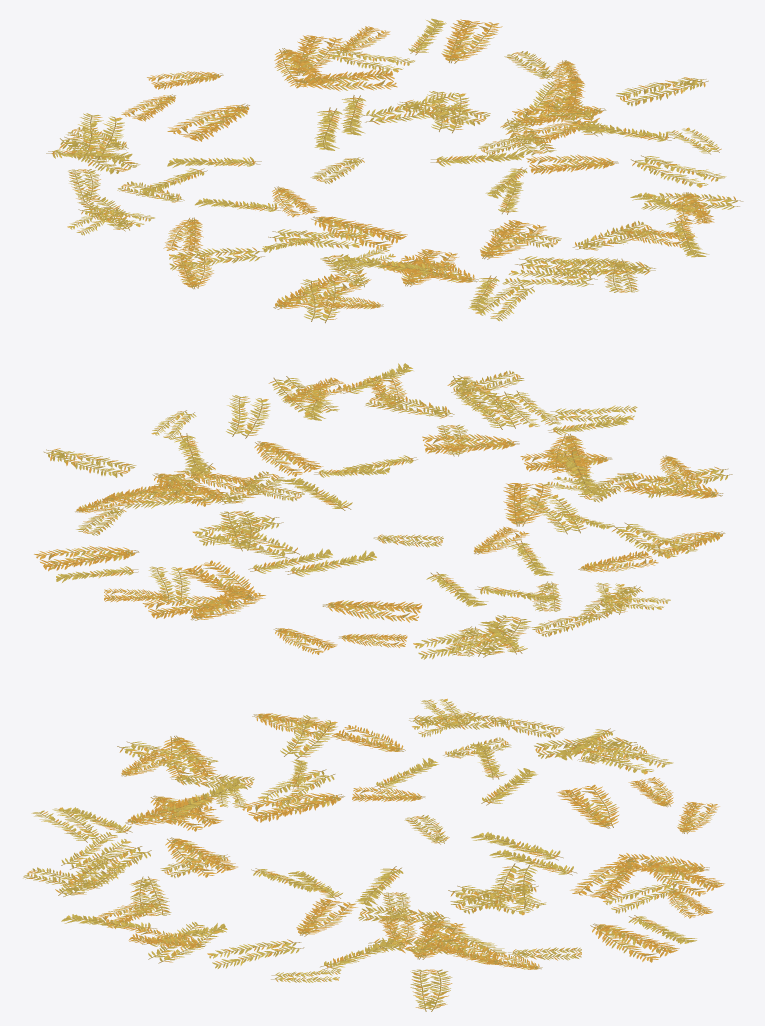
The model's file is saule_jeune_a.fbx.
The picture shows the model from 3 angles, top to bottom: view 1: azimuth 30°, elevation 25°; view 2: azimuth 150°, elevation 25°; view 3: azimuth 270°, elevation 25°; orthographic projection. The views are drawn at different scales.
Parts seen in each view (by area): view 1: saule_jeune_a_feuilles_sol; view 2: saule_jeune_a_feuilles_sol; view 3: saule_jeune_a_feuilles_sol.
Boxes of the visible parts, left/top/right/bottom form: saule_jeune_a_feuilles_sol: left=46, top=18, right=743, bottom=323; saule_jeune_a_feuilles_sol: left=34, top=363, right=732, bottom=659; saule_jeune_a_feuilles_sol: left=23, top=698, right=724, bottom=1011.
Size of what is drawn, in the model's own units: 3.19 by 0.00578 by 3.16.
